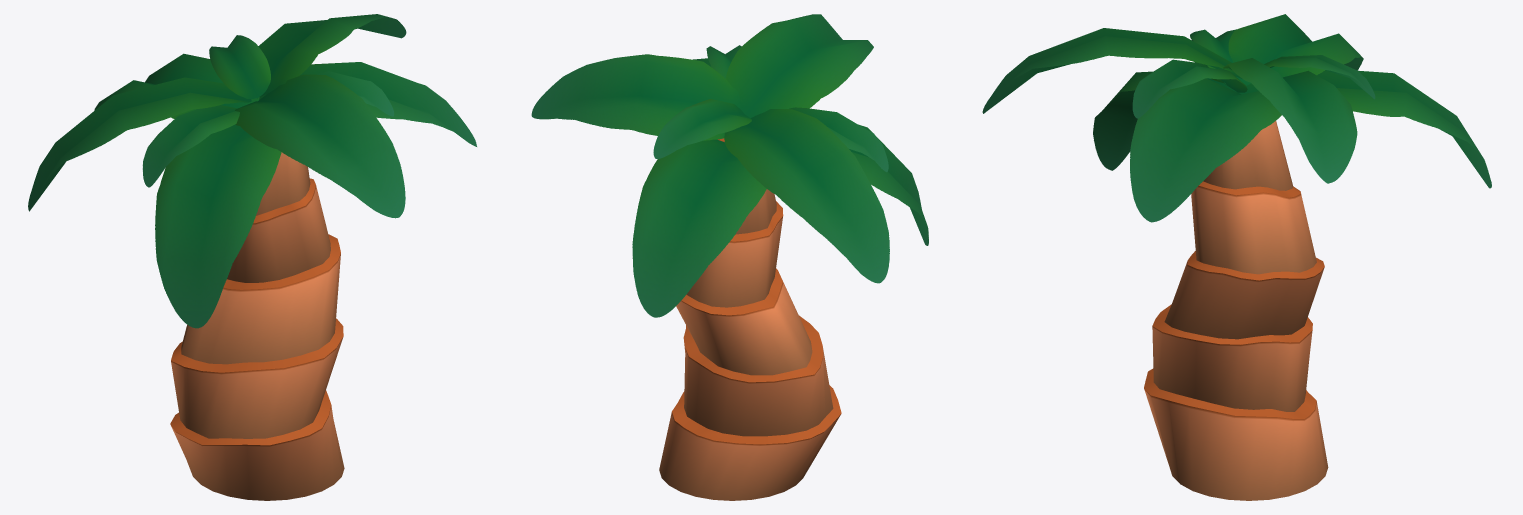
Rendered from Tree_1a.fbx.
The picture shows the model from 3 angles, left to right: view 1: azimuth 30°, elevation 25°; view 2: azimuth 150°, elevation 25°; view 3: azimuth 270°, elevation 25°; orthographic projection. The views are drawn at different scales.
Parts seen in each view (by area): view 1: Tree_1a; view 2: Tree_1a; view 3: Tree_1a.
Boxes of the visible parts, x1,y1,x2,y2 form: Tree_1a: (28, 14, 476, 500); Tree_1a: (531, 14, 928, 500); Tree_1a: (982, 14, 1491, 500).
Size of the model in its own units: 65.72 by 63.83 by 71.94.
Materials: 1 (1 with a texture image).
